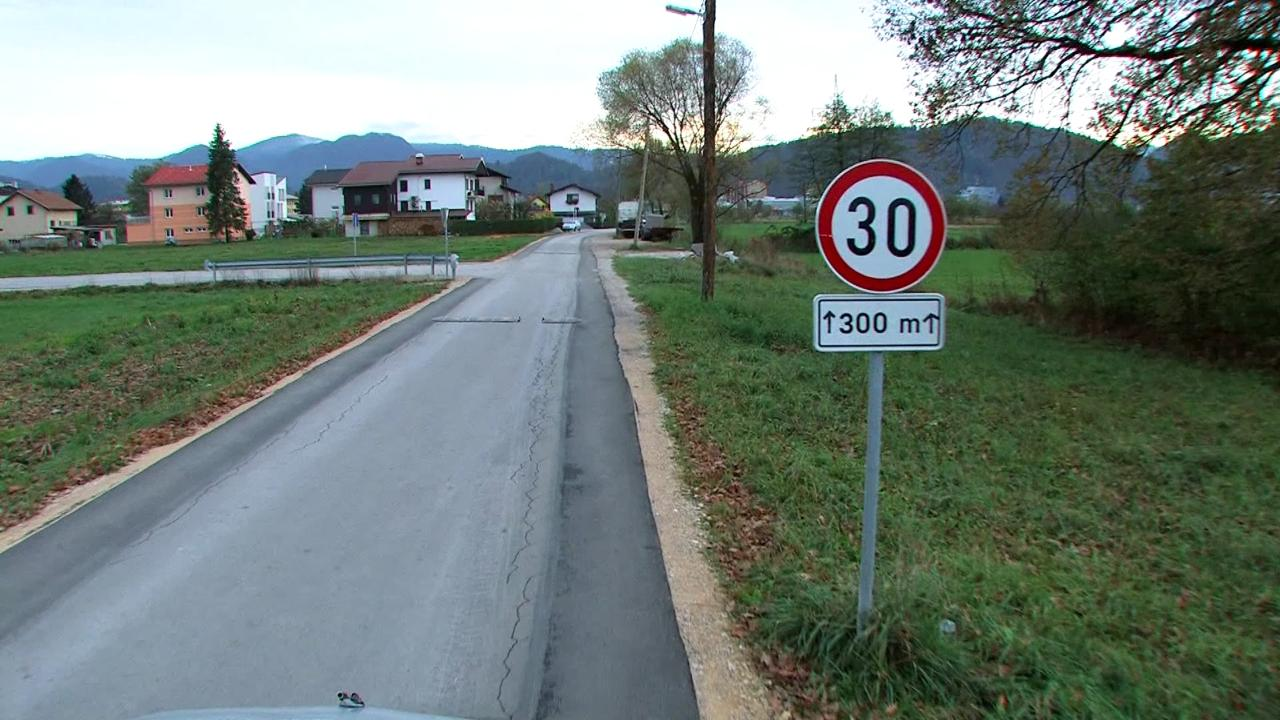Rectangle: (814, 293, 942, 349)
Round: (816, 161, 948, 293)
